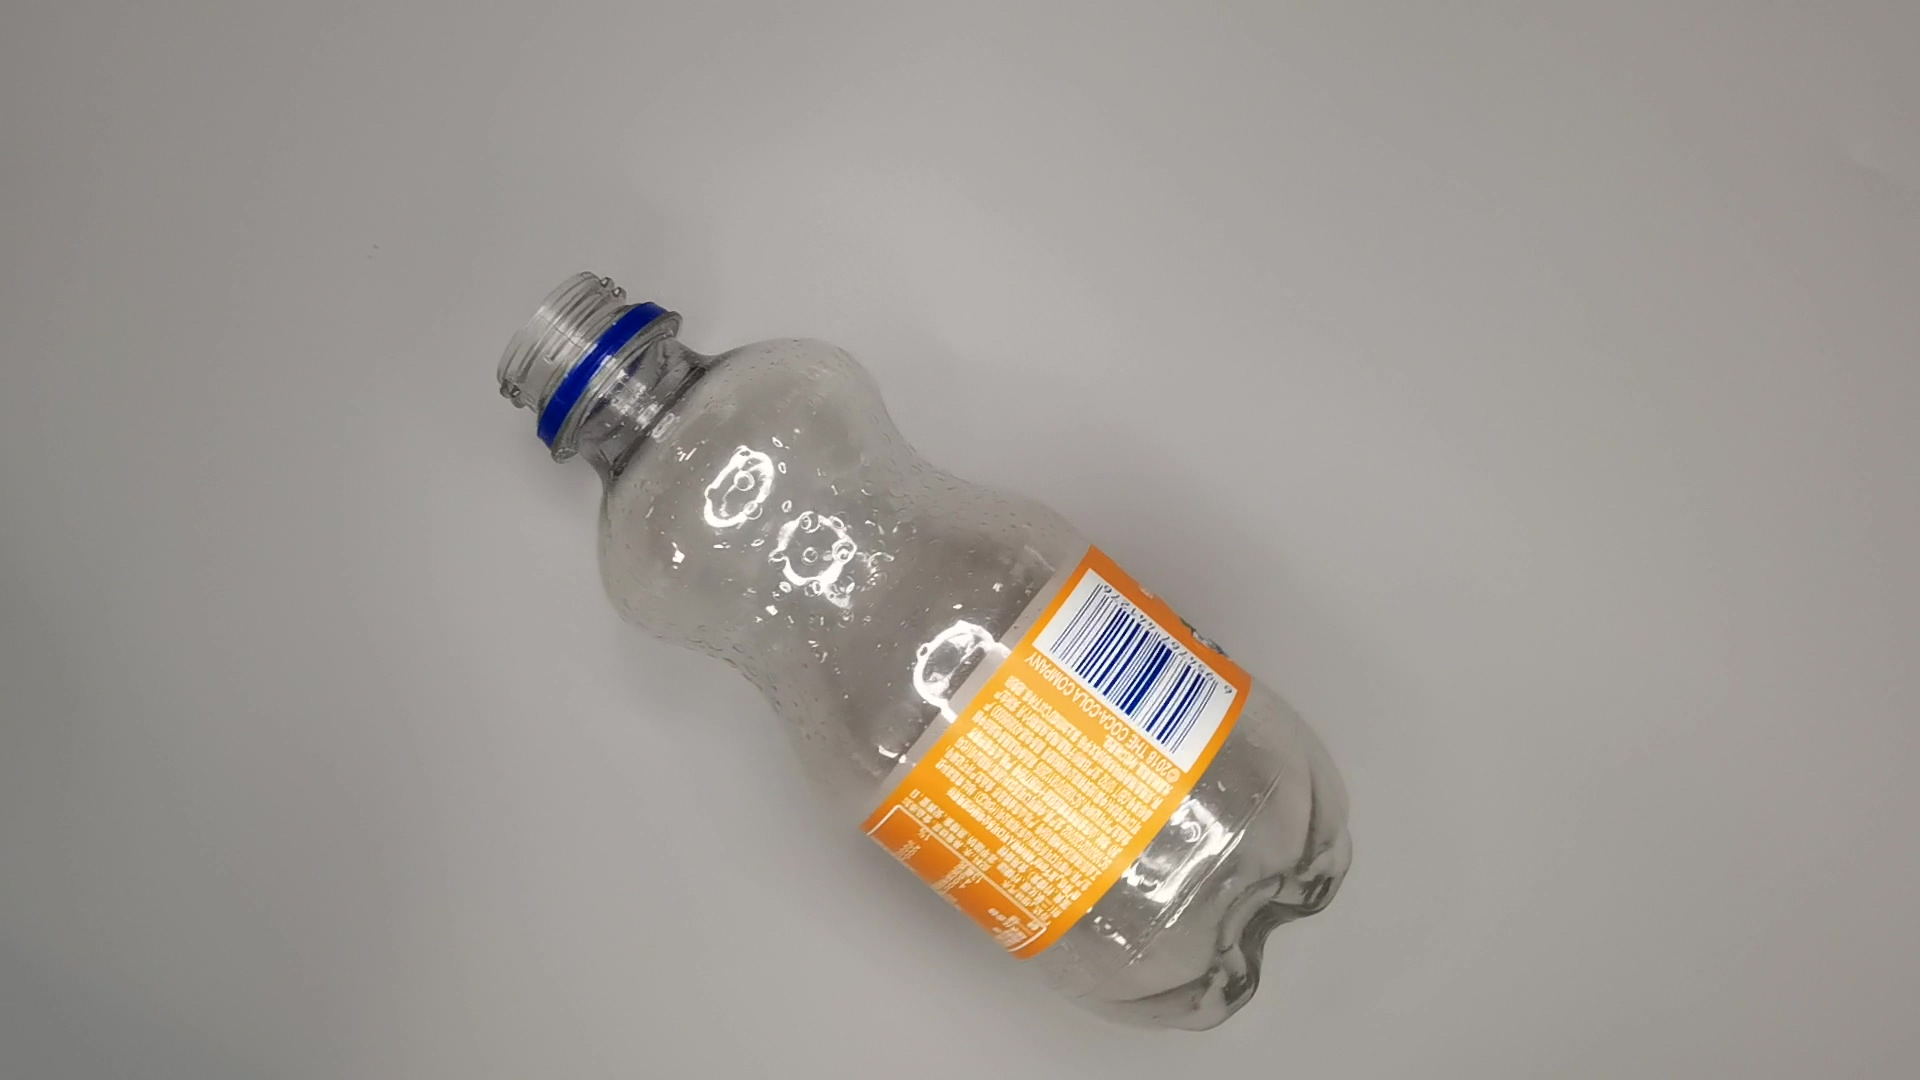bottle: (484, 268, 1360, 1046)
